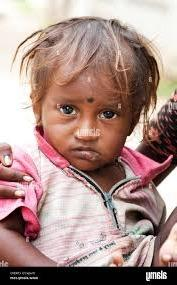Human: (6, 14, 165, 269)
